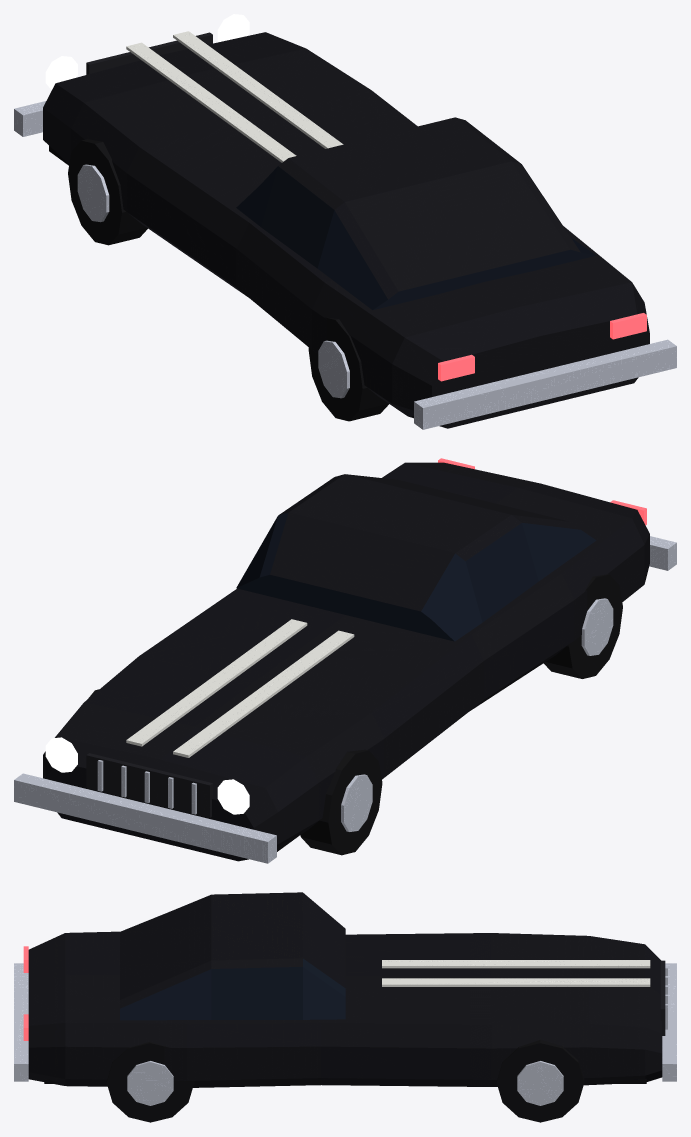
File: car_coupe_black.glb
3 renders of one model, top to bottom at view 1: azimuth 30°, elevation 25°; view 2: azimuth 150°, elevation 25°; view 3: azimuth 270°, elevation 25°, orthographic. The views are drawn at different scales.
Parts seen in each view (by area): view 1: car_coupe_black; view 2: car_coupe_black; view 3: car_coupe_black.
Boxes of the visible parts, left/top/right/bottom form: car_coupe_black: left=14, top=14, right=676, bottom=429; car_coupe_black: left=14, top=458, right=676, bottom=863; car_coupe_black: left=14, top=892, right=676, bottom=1122.
Size of the model in its own units: 2.05 by 1.32 by 5.44.
3 materials, 3 textured.
